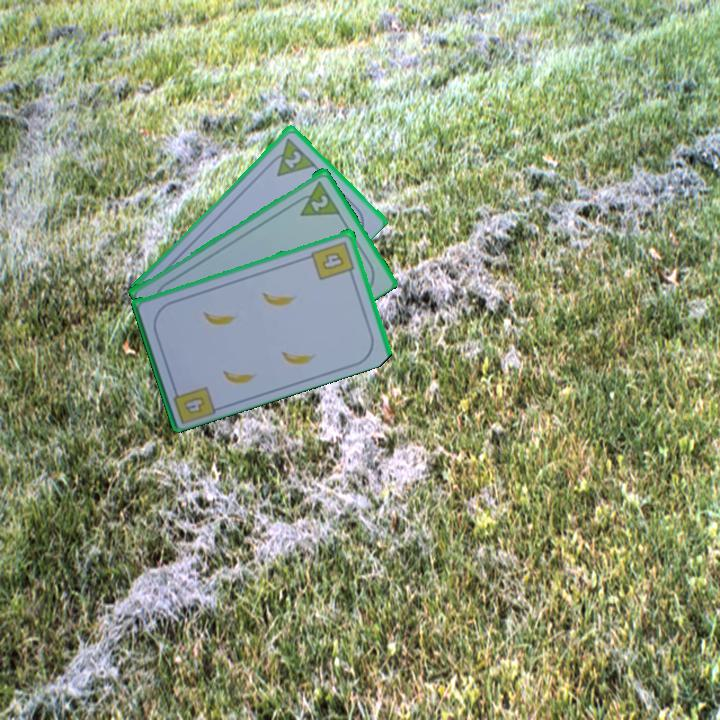2p: (264, 133, 318, 179), (307, 191, 331, 214)
4b: (308, 237, 358, 283), (169, 381, 218, 425)
